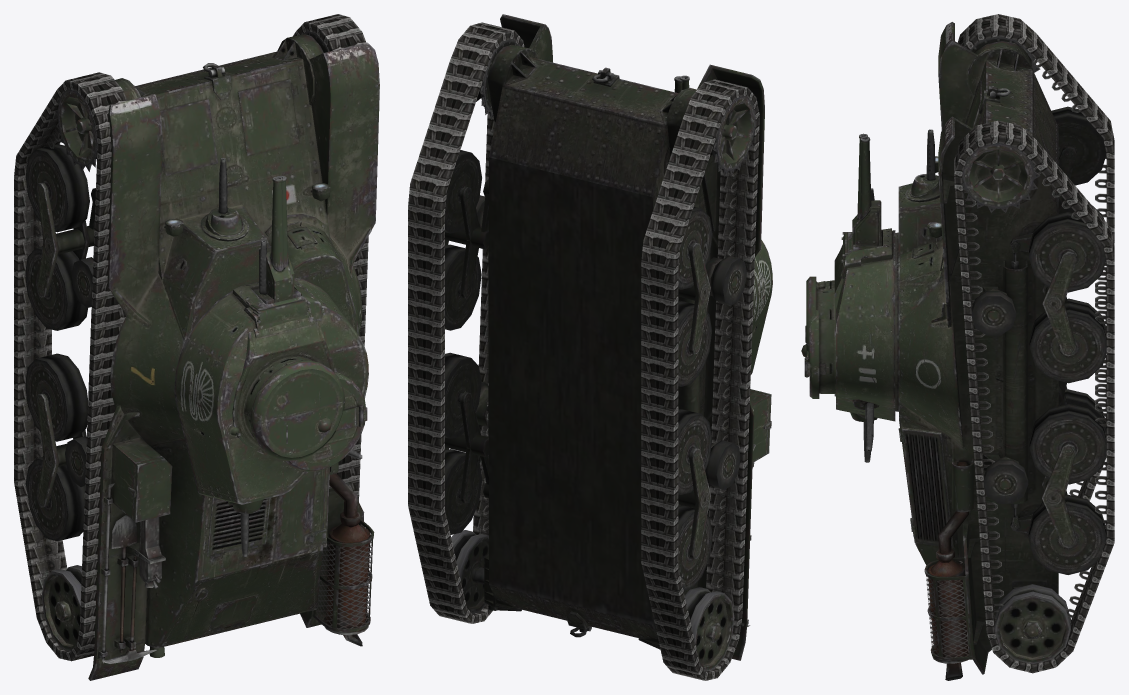
3 renders of one model, left to right at view 1: azimuth 30°, elevation 25°; view 2: azimuth 150°, elevation 25°; view 3: azimuth 270°, elevation 25°, orthographic. The views are drawn at different scales.
Visible parts, largest first — view 1: hull, chassis_track_L, turret_02, turret_01, chassis_wheel_L_05, chassis_wheel_L_02, chassis_wheel_L_07, chassis_wheel_L_04, chassis_track_R, chassis_wheel_L_08, chassis_wheel_L_01, Ha_Go_hull_grill.sc2 (+4 smaller); view 2: hull, chassis_track_L, chassis_track_R, chassis_wheel_L_08, chassis_wheel_L_01, chassis_wheel_R_05, chassis_wheel_R_08, chassis_wheel_R_04, chassis_wheel_R_07, chassis_wheel_L_05, chassis_wheel_L_04, chassis_wheel_R_02 (+6 smaller); view 3: hull, chassis_track_R, turret_02, chassis_track_L, chassis_wheel_R_08, chassis_wheel_R_05, chassis_wheel_R_04, chassis_wheel_R_07, chassis_wheel_R_02, chassis_wheel_R_01, turret_01, chassis_wheel_L_02 (+6 smaller).
Part boxes in pixels (x1,y1,x2,y2): hull: (36, 34, 379, 680); chassis_track_L: (14, 72, 127, 661); turret_02: (174, 278, 368, 556); turret_01: (215, 296, 362, 461); chassis_wheel_L_05: (25, 353, 87, 441); chassis_wheel_L_02: (25, 144, 89, 232); chassis_wheel_L_07: (25, 457, 84, 541); chassis_wheel_L_04: (25, 246, 87, 330); chassis_track_R: (293, 14, 368, 501); chassis_wheel_L_08: (41, 565, 81, 651); chassis_wheel_L_01: (55, 89, 97, 171); Ha_Go_hull_grill.sc2: (316, 525, 371, 628); hull: (445, 14, 771, 660); chassis_track_L: (641, 79, 759, 680); chassis_track_R: (408, 22, 524, 623); chassis_wheel_L_08: (685, 587, 734, 671); chassis_wheel_L_01: (709, 95, 755, 176); chassis_wheel_R_05: (445, 352, 481, 438); chassis_wheel_R_08: (451, 530, 488, 613); chassis_wheel_R_04: (445, 244, 481, 330); chassis_wheel_R_07: (445, 449, 482, 534); chassis_wheel_L_05: (678, 409, 712, 494); chassis_wheel_L_04: (678, 300, 711, 386); chassis_wheel_R_02: (445, 150, 481, 233); hull: (896, 22, 1076, 680); chassis_track_R: (954, 120, 1114, 673); turret_02: (801, 228, 895, 462); chassis_track_L: (957, 14, 1114, 501); chassis_wheel_R_08: (994, 584, 1070, 664); chassis_wheel_R_05: (1029, 404, 1106, 484); chassis_wheel_R_04: (1029, 302, 1106, 383); chassis_wheel_R_07: (1028, 494, 1106, 574); chassis_wheel_R_02: (1029, 212, 1106, 292); chassis_wheel_R_01: (962, 142, 1040, 212); turret_01: (806, 232, 898, 451); chassis_wheel_L_02: (1051, 106, 1106, 185).
Bounding box in the file's own units: 2.09 × 4.35 × 2.24.
3 materials, 3 textured.
